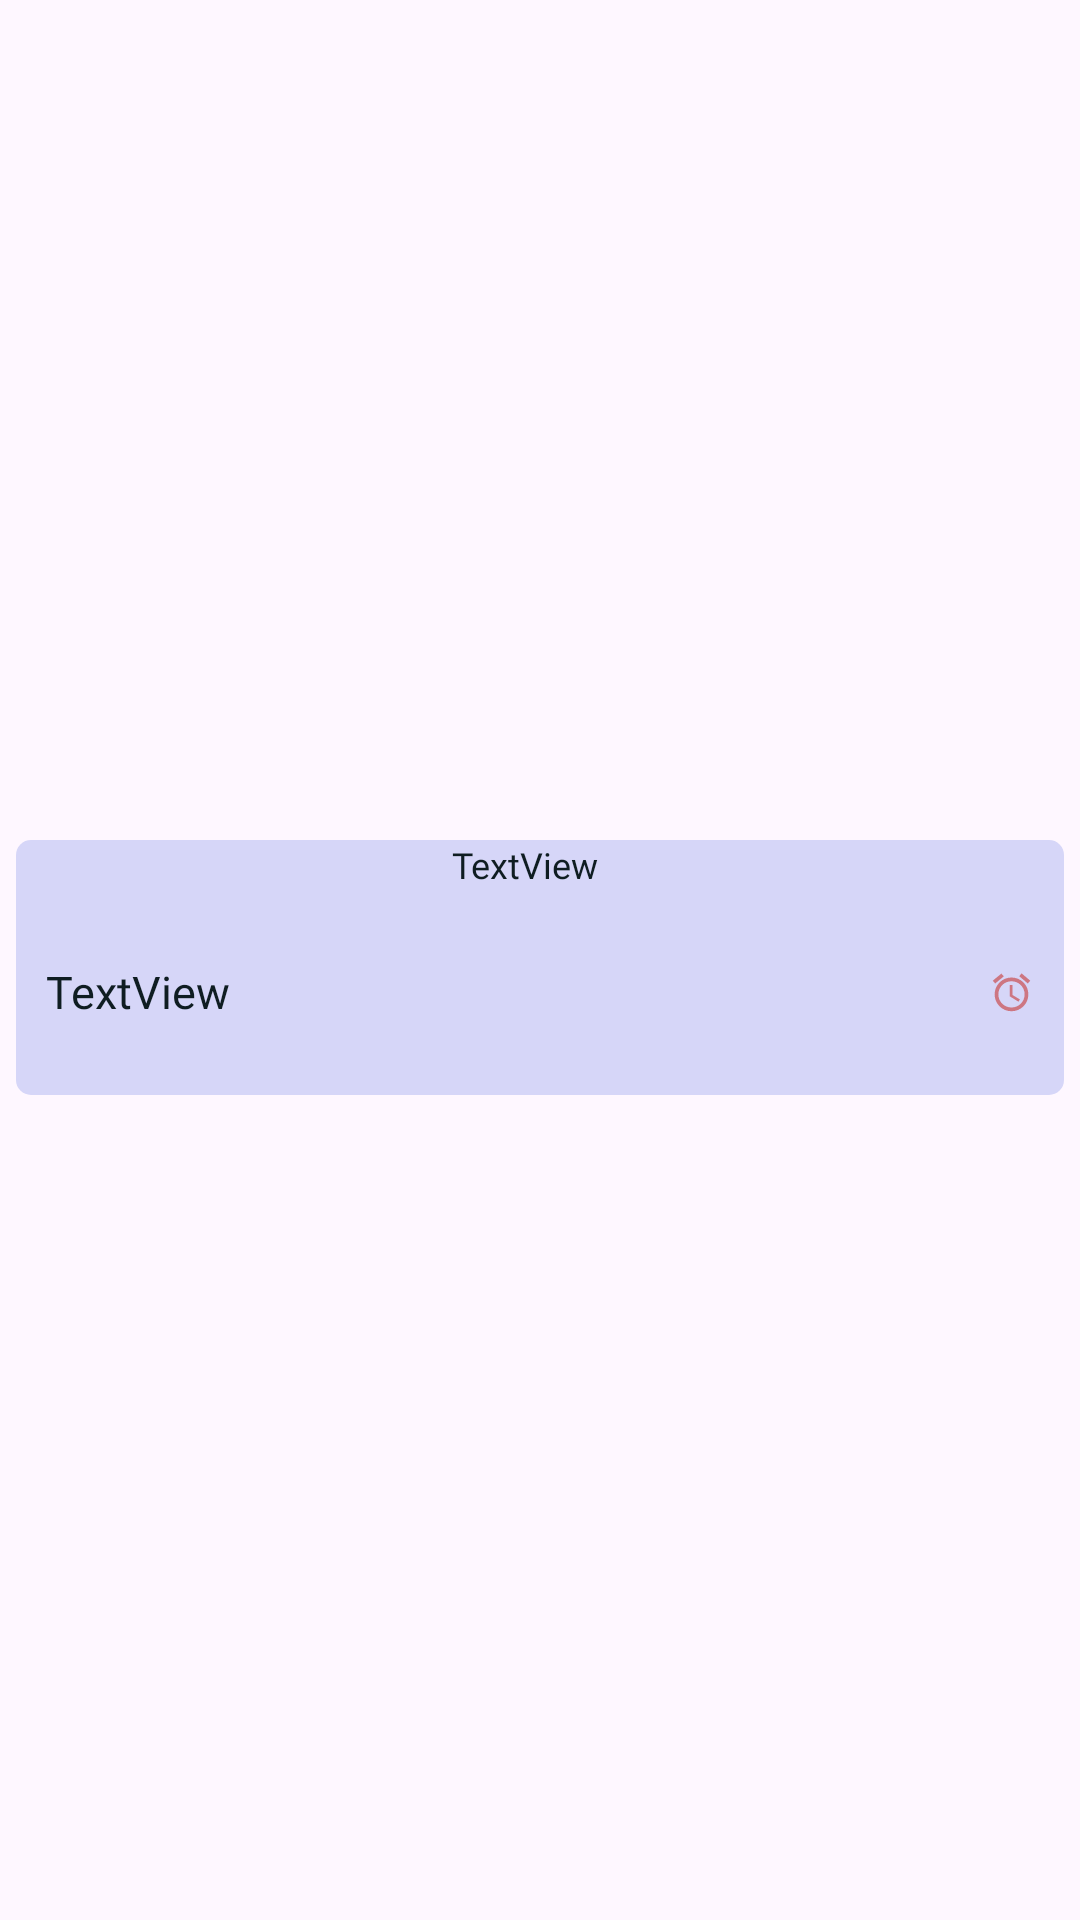

Point at icon controls on the screen. Image size 1080x1920, points as point (x, y).
alarm: point (1011, 992)
